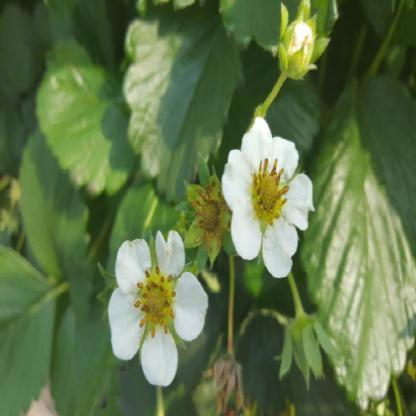Strawberry_Blossom_Blight: (131, 262, 181, 340), (249, 154, 293, 231), (184, 182, 232, 243)
